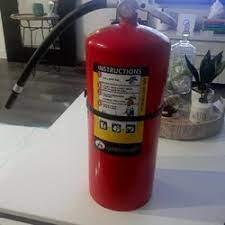floor-kept: (33, 0, 185, 225)
